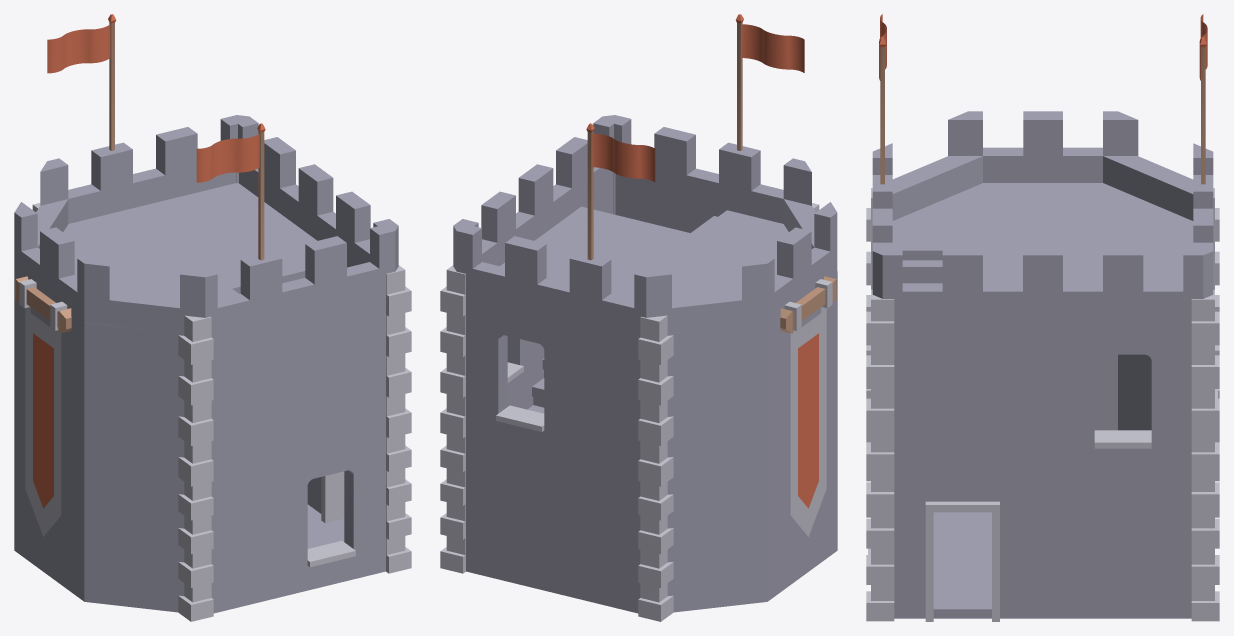
File: Tower.fbx
The picture shows the model from 3 angles, left to right: view 1: azimuth 30°, elevation 25°; view 2: azimuth 150°, elevation 25°; view 3: azimuth 270°, elevation 25°; orthographic projection. The views are drawn at different scales.
Parts seen in each view (by area): view 1: wall_cornerDiagonal_0, wall_cornerDiagonal_3, wall_straight_11, wall_windowSquare_19, battlement_corner_27, battlement_cornerDiagonal_5, battlement_corner_26, detail_bannerPoint%_28, floor_square_24, battlement_cornerDiagonal_6, floor_corner_8, wall_borderBricks_34 (+11 smaller); view 2: wall_cornerDiagonal_1, wall_cornerDiagonal_2, wall_straight_4, wall_windowSquare_23, battlement_cornerDiagonal_6, battlement_corner_26, battlement_corner_27, detail_bannerPoint%_28, battlement_cornerDiagonal_5, wall_borderBricks_36, floor_corner_7, floor_half_25 (+11 smaller); view 3: wall_straight_21, wall_straight_18, wall_windowSquare_22, wall_doorwaySquare_20, battlement_corner_27, battlement_corner_26, floor_corner_7, battlement_cornerDiagonal_5, battlement_cornerDiagonal_6, floor_corner_8, floor_square_15, floor_square_24 (+13 smaller).
Boxes of the visible parts, bbox=[...] form: wall_cornerDiagonal_0: bbox=[49, 450, 265, 613]; wall_cornerDiagonal_3: bbox=[49, 321, 265, 477]; wall_straight_11: bbox=[266, 301, 385, 465]; wall_windowSquare_19: bbox=[266, 436, 385, 599]; battlement_corner_27: bbox=[254, 170, 398, 329]; battlement_cornerDiagonal_5: bbox=[49, 233, 268, 342]; battlement_corner_26: bbox=[104, 115, 323, 233]; detail_bannerPoint%_28: bbox=[15, 276, 71, 536]; floor_square_24: bbox=[109, 183, 311, 264]; battlement_cornerDiagonal_6: bbox=[14, 146, 119, 296]; floor_corner_8: bbox=[14, 211, 194, 297]; wall_borderBricks_34: bbox=[178, 315, 213, 486]; wall_cornerDiagonal_1: bbox=[586, 450, 802, 613]; wall_cornerDiagonal_2: bbox=[586, 321, 802, 477]; wall_straight_4: bbox=[466, 436, 585, 600]; wall_windowSquare_23: bbox=[466, 301, 585, 465]; battlement_cornerDiagonal_6: bbox=[582, 232, 802, 342]; battlement_corner_26: bbox=[453, 170, 594, 329]; battlement_corner_27: bbox=[528, 115, 747, 233]; detail_bannerPoint%_28: bbox=[780, 276, 836, 536]; battlement_cornerDiagonal_5: bbox=[732, 146, 837, 297]; wall_borderBricks_36: bbox=[638, 315, 673, 486]; floor_corner_7: bbox=[657, 210, 837, 286]; floor_half_25: bbox=[540, 206, 705, 266]; wall_straight_21: bbox=[894, 328, 1042, 473]; wall_straight_18: bbox=[1043, 473, 1191, 618]; wall_windowSquare_22: bbox=[1043, 328, 1191, 473]; wall_doorwaySquare_20: bbox=[894, 473, 1042, 621]; battlement_corner_27: bbox=[872, 180, 1051, 327]; battlement_corner_26: bbox=[1034, 180, 1213, 327]; floor_corner_7: bbox=[892, 183, 1052, 260]; battlement_cornerDiagonal_5: bbox=[872, 111, 1052, 220]; battlement_cornerDiagonal_6: bbox=[1033, 111, 1213, 220]; floor_corner_8: bbox=[1048, 183, 1193, 250]; floor_square_15: bbox=[894, 533, 1042, 618]; floor_square_24: bbox=[1043, 242, 1193, 327].
Size of the model in its own units: 22.68 by 35 by 22.05.
